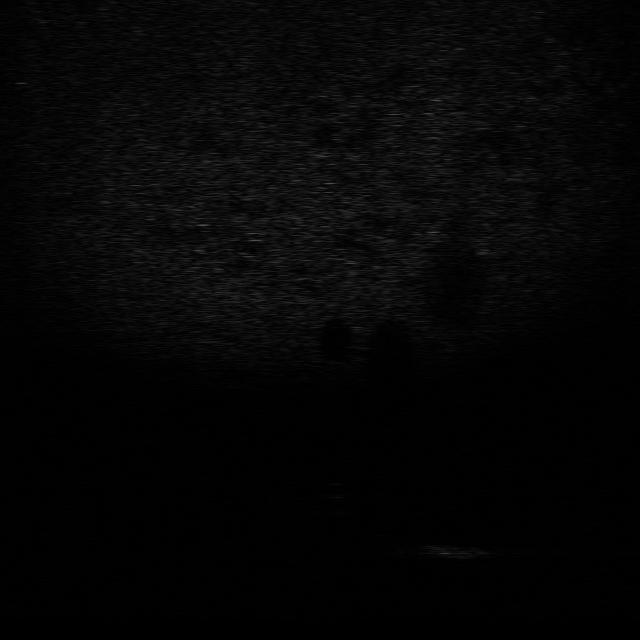ball: (316, 479, 358, 501)
metal bucket: (418, 537, 488, 562)
tyre: (362, 512, 418, 558)
